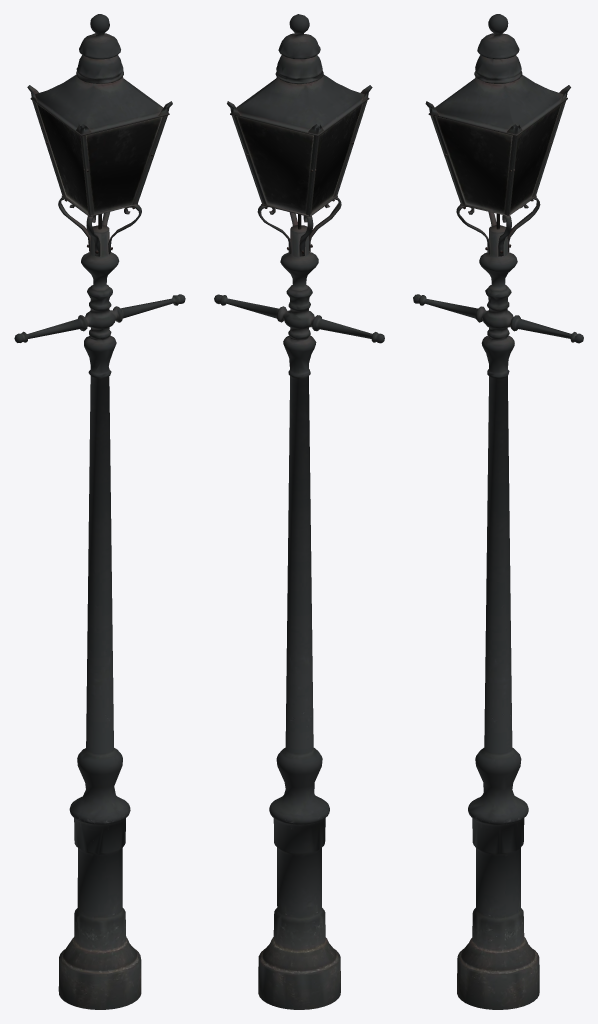
Rendered from street_lamp_01.lite.glb.
The picture shows the model from 3 angles, left to right: view 1: azimuth 30°, elevation 25°; view 2: azimuth 150°, elevation 25°; view 3: azimuth 330°, elevation 25°; orthographic projection.
Visible parts, largest first — view 1: street_lamp_01; view 2: street_lamp_01; view 3: street_lamp_01.
Part boxes in pixels (bbox=[...]): street_lamp_01: bbox=[14, 14, 185, 1009]; street_lamp_01: bbox=[214, 14, 384, 1009]; street_lamp_01: bbox=[413, 14, 583, 1009].
Bounding box in the file's own units: 0.7034 × 3.87 × 0.3857.
2 materials, 2 textured.
